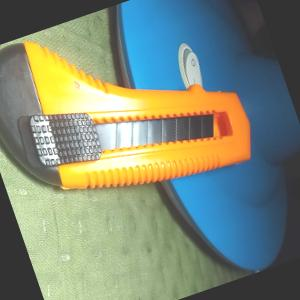estilete: (0, 0, 259, 235)
